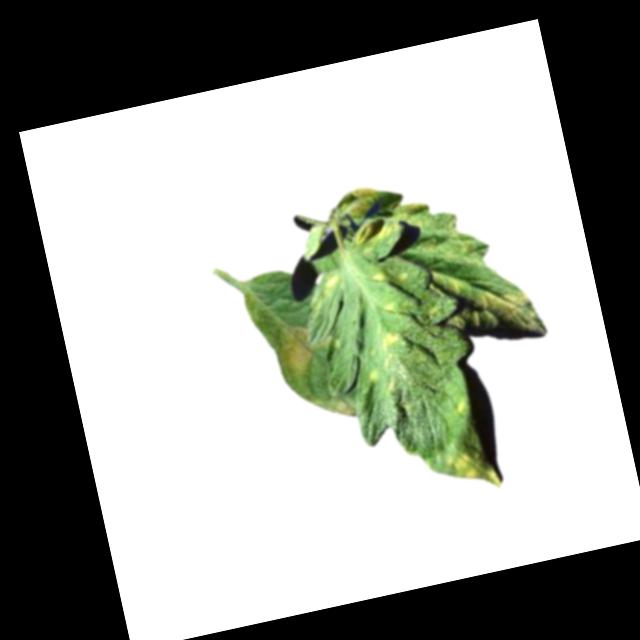Leaf_Mold: (464, 280, 547, 349), (272, 322, 322, 377), (443, 446, 480, 488), (349, 216, 392, 250), (344, 184, 385, 219), (376, 328, 402, 353), (370, 273, 383, 288)
